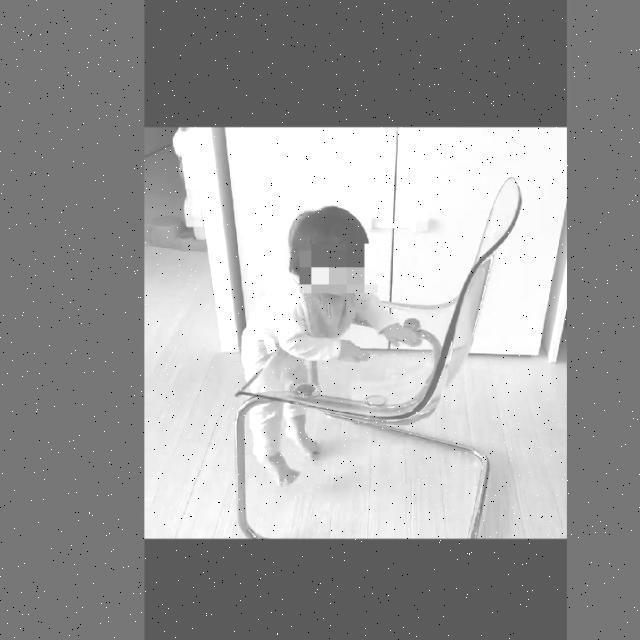child: (238, 200, 423, 485)
